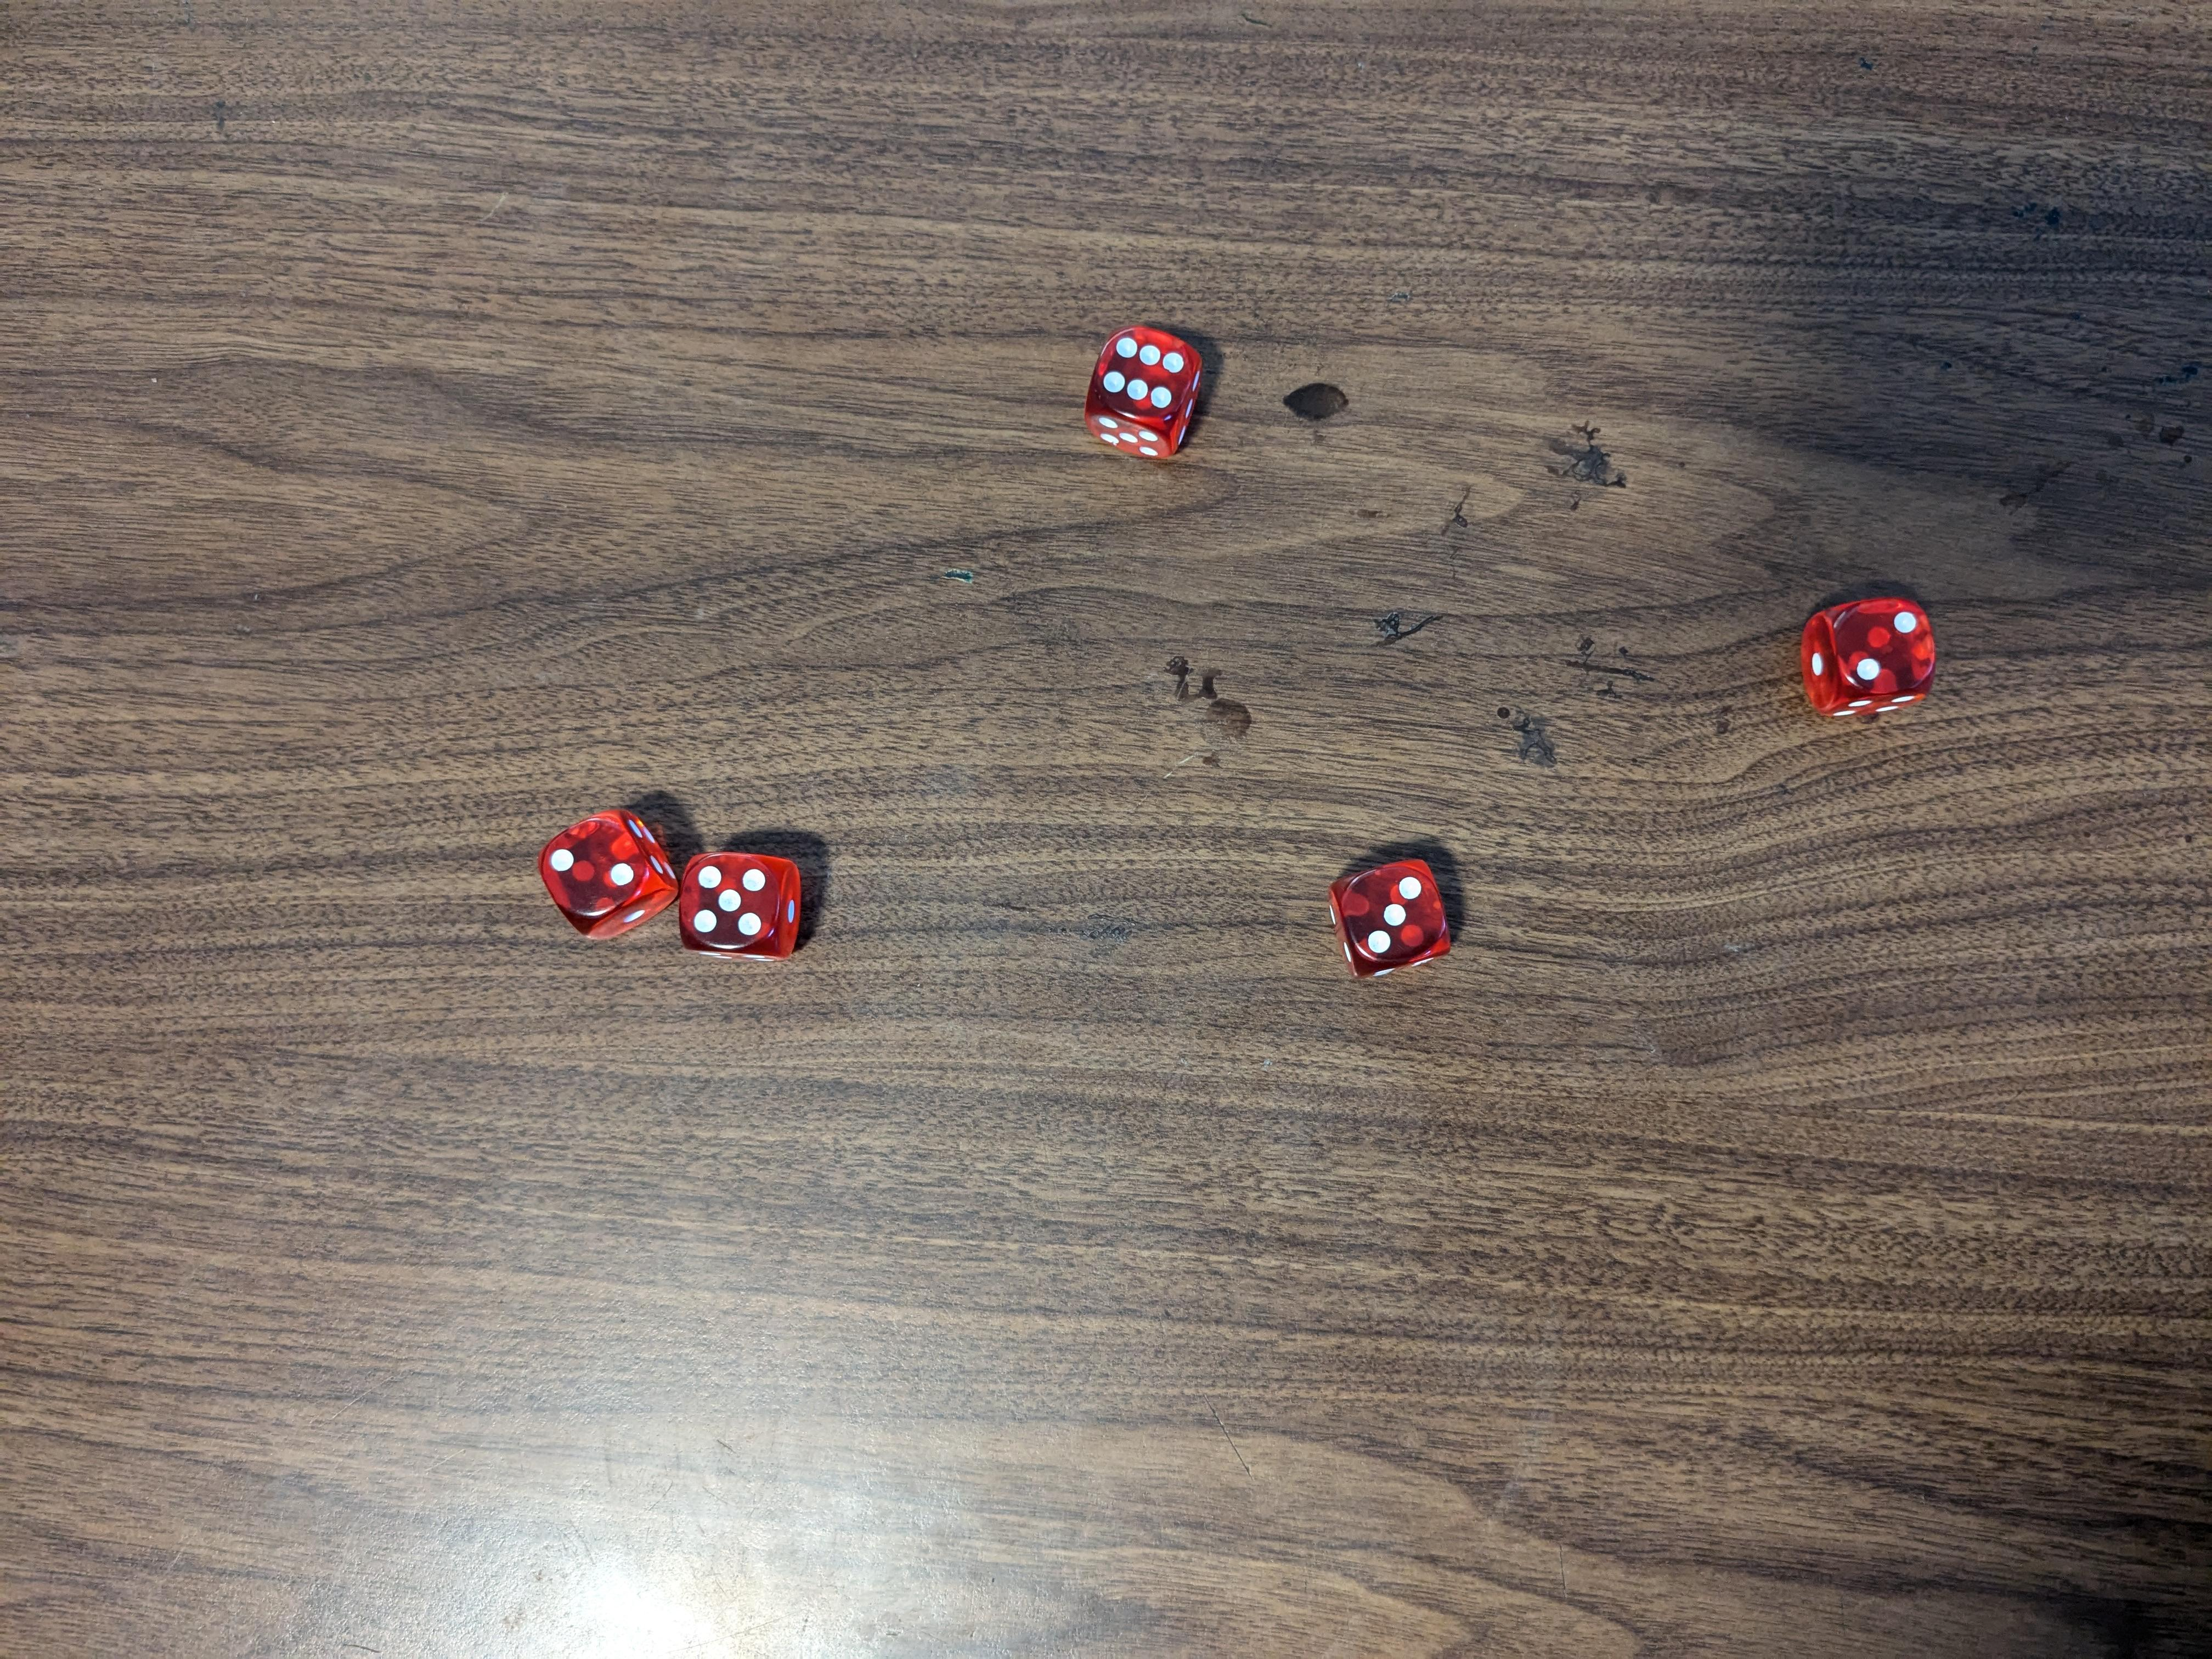five: (676, 852, 806, 972)
six: (1082, 324, 1212, 467)
three: (1327, 854, 1456, 993)
two: (535, 802, 674, 948), (1801, 591, 1946, 716)
